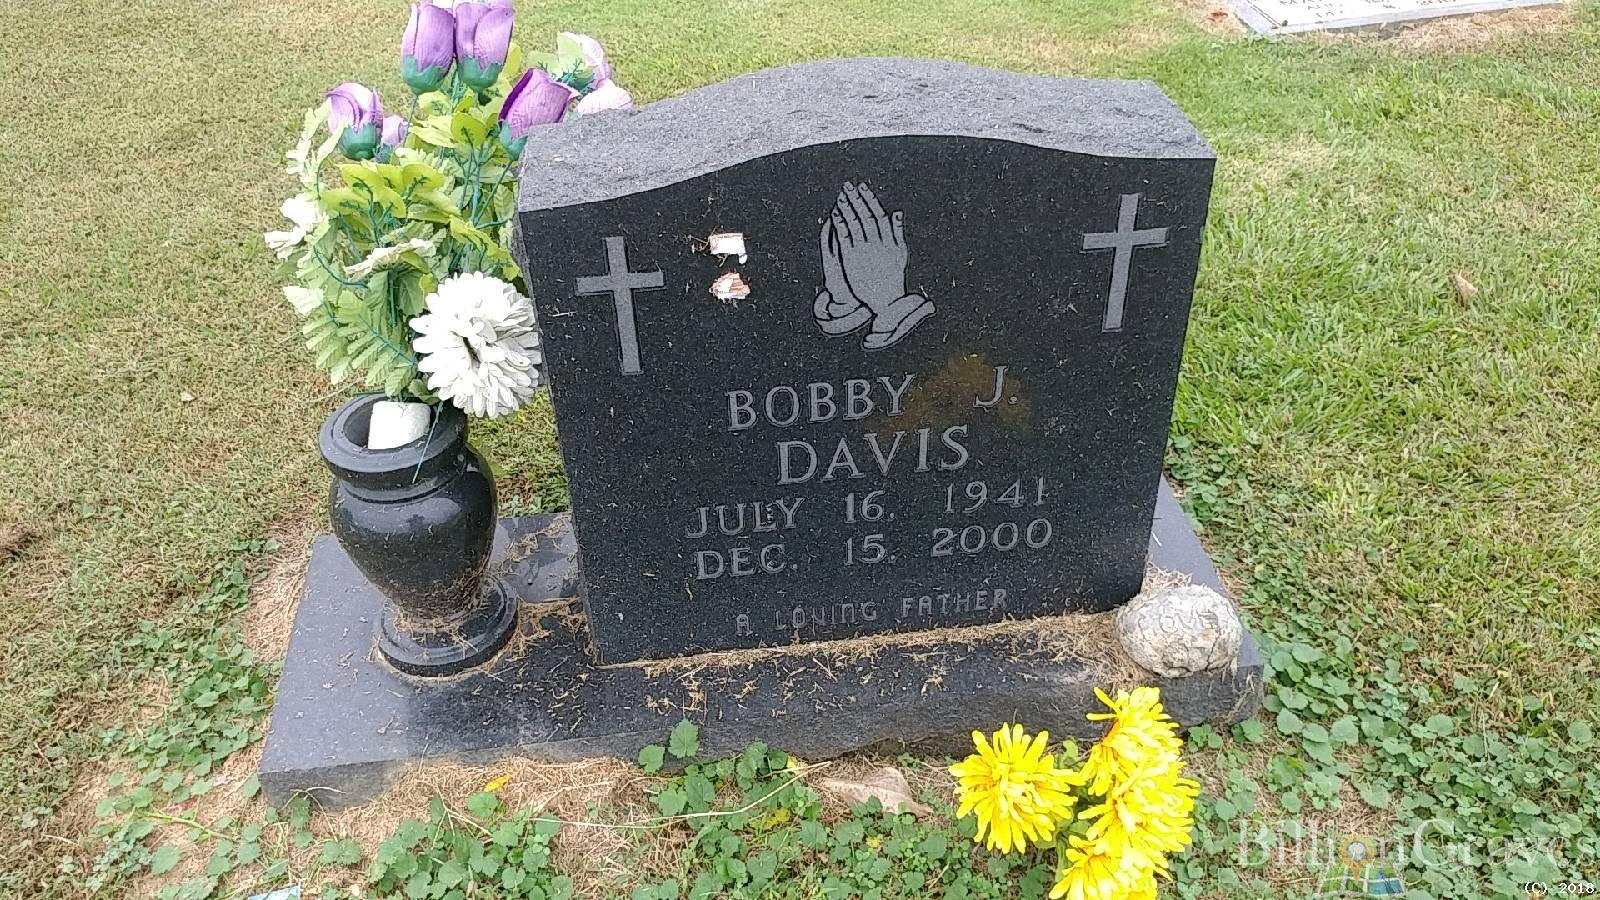upright: (505, 56, 1218, 668)
